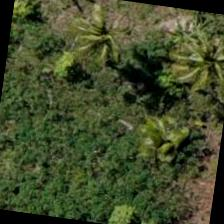Kelapa_Sawit: (51, 0, 153, 89), (159, 14, 223, 113)
